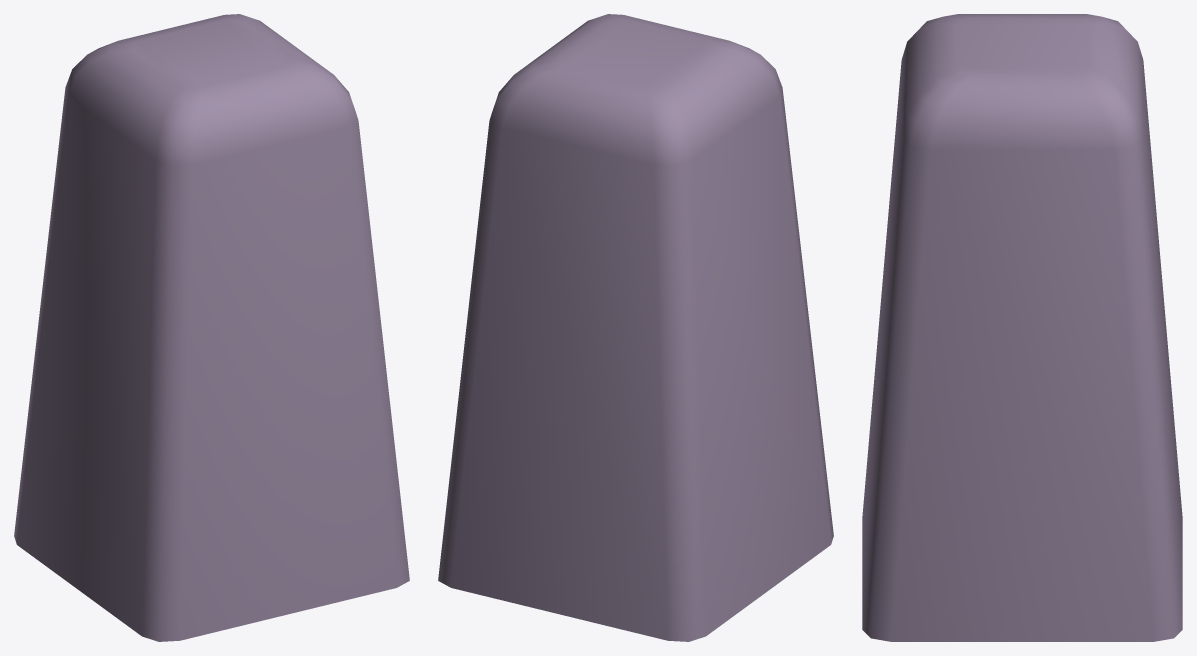
The model's file is SM_Stone_Big1.fbx.
3 renders of one model, left to right at view 1: azimuth 30°, elevation 25°; view 2: azimuth 150°, elevation 25°; view 3: azimuth 270°, elevation 25°, orthographic. The views are drawn at different scales.
Visible parts, largest first — view 1: SM_Stone_Big1; view 2: SM_Stone_Big1; view 3: SM_Stone_Big1.
Part boxes in pixels (<box>): SM_Stone_Big1: <box>14,14,409,641</box>; SM_Stone_Big1: <box>438,14,833,641</box>; SM_Stone_Big1: <box>862,14,1182,641</box>.
Bounding box in the file's own units: 2.2 × 4 × 2.2.
